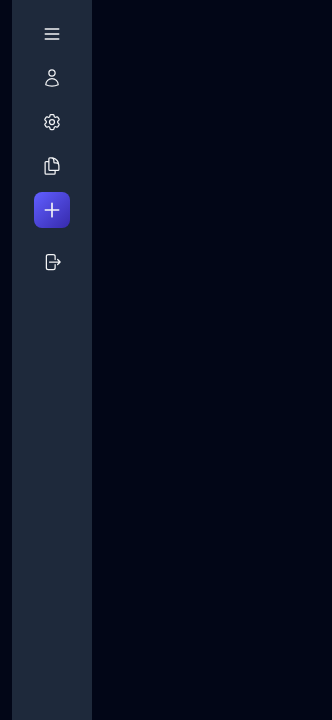
Scenario: Sidebar Component › groups conversations by date correctly
Click the button titled "Expand". click: (52, 34)
box: [34,16,70,52]
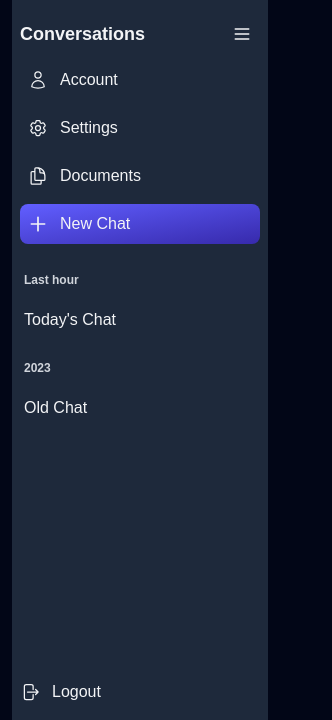
Result: the text "Last hour" is shown at [24,273,79,287]
Result: the text "2023" is shown at [24,361,51,375]
